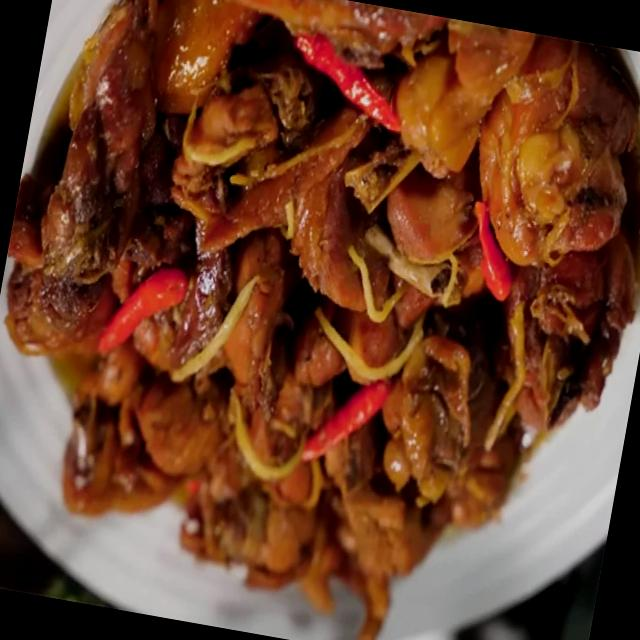ga kho: (6, 0, 639, 640)
